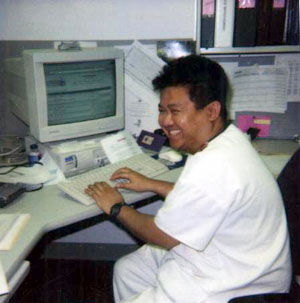person: (84, 54, 292, 303)
